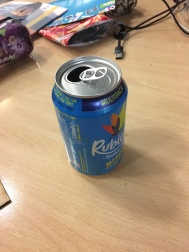can_blue: (29, 53, 152, 180)
